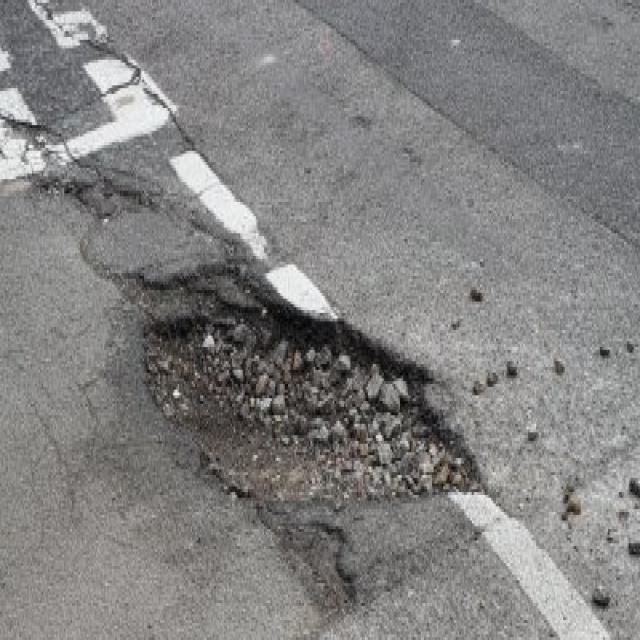Pothole: (128, 269, 492, 515), (37, 166, 160, 224)
